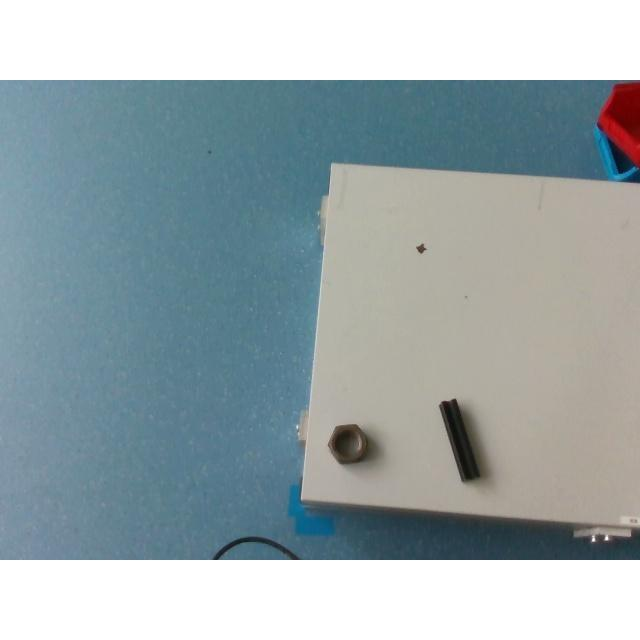F20_20_B: (438, 400, 478, 480)
M30: (328, 422, 368, 466)
